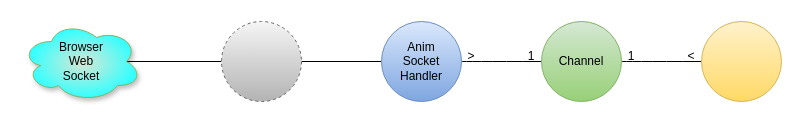
Image size: 799x126. Some labels were removed from this diagram. The centre of each missing label's shape, as x and y in pixels:
"Animator" belongs at (x=741, y=61).
"Cowboy Web Socket" belongs at (x=261, y=61).
